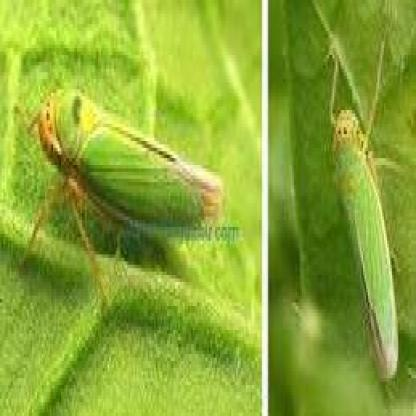Green-Leafhopper: (13, 81, 224, 299), (326, 30, 416, 384)
